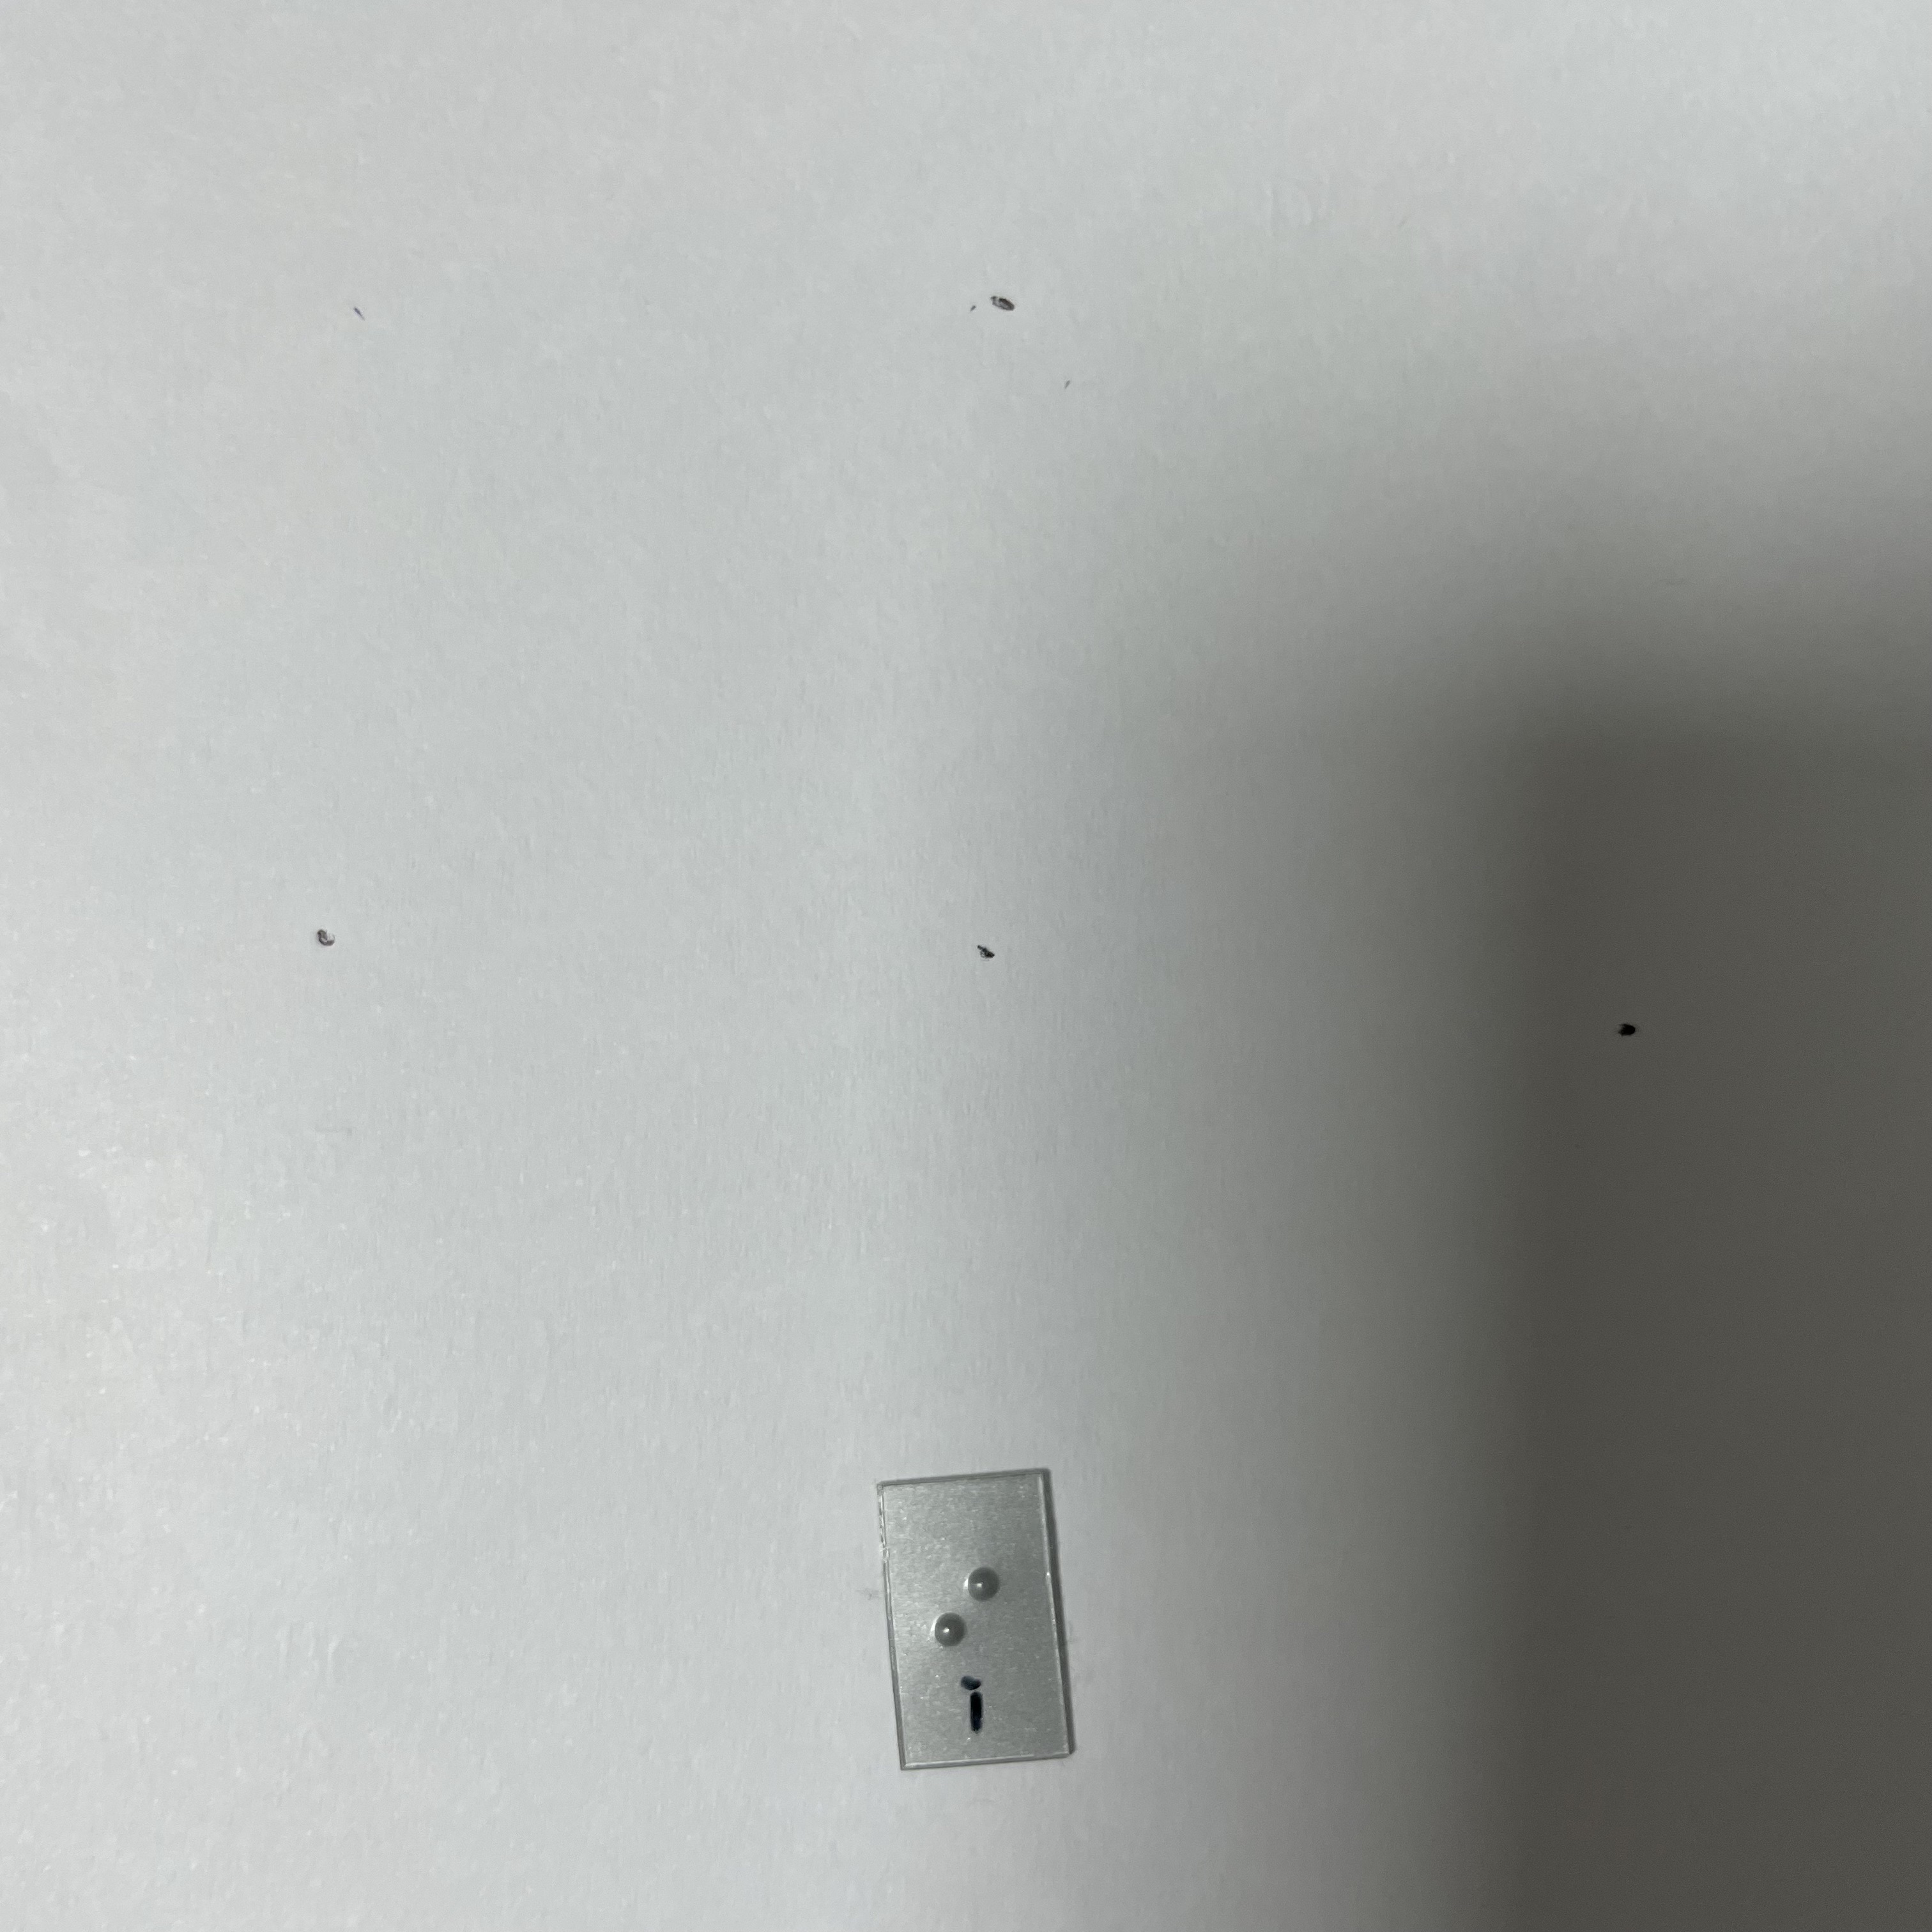i: (911, 1552, 1025, 1678)
